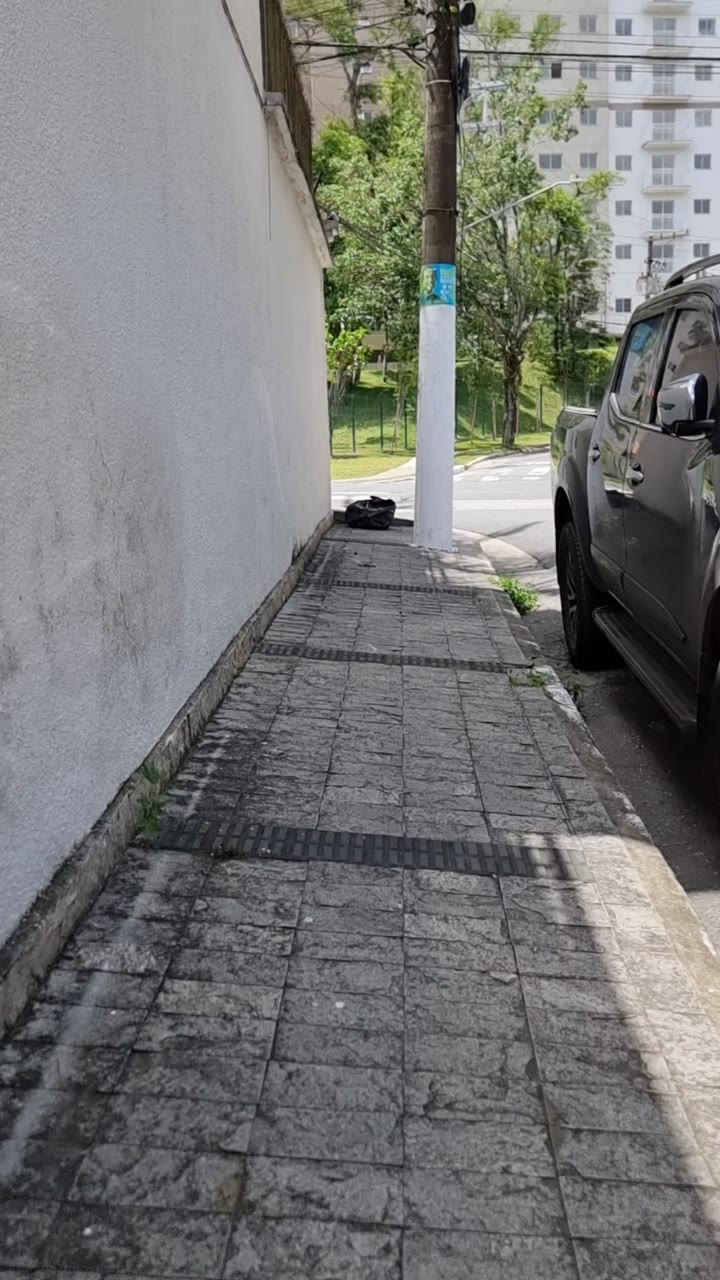obstaculo: (432, 0, 468, 550)
